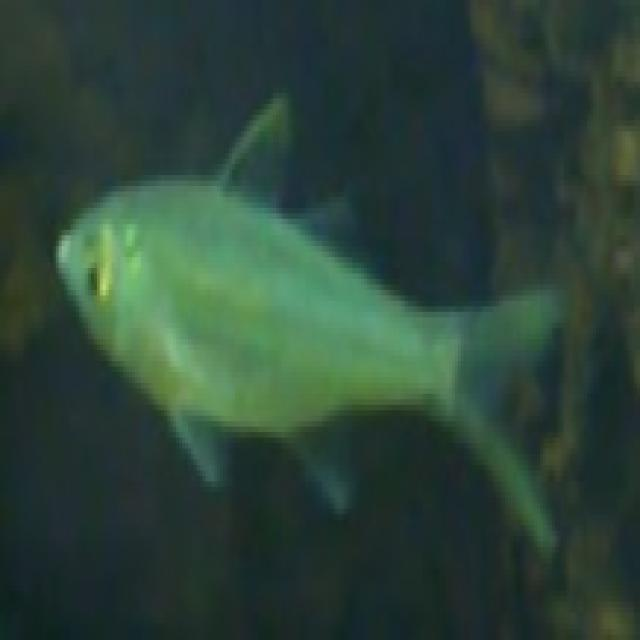Glass-Perchlet: (28, 34, 572, 558)
